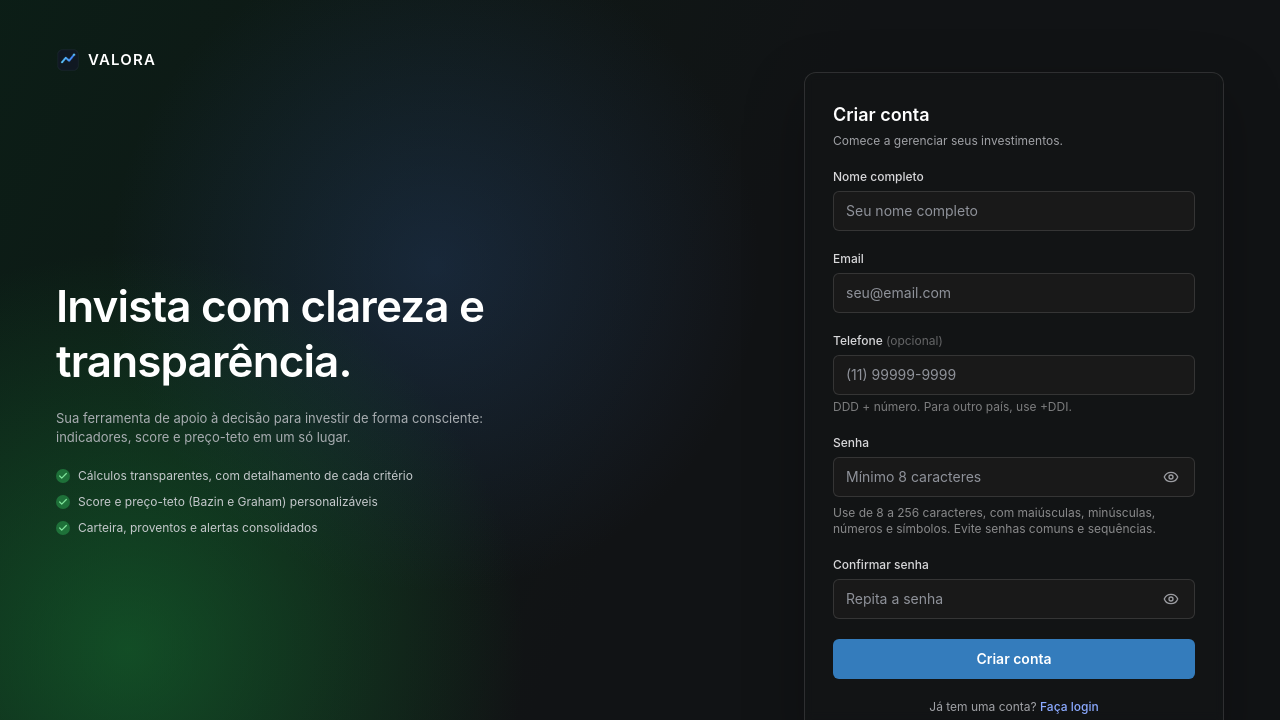
Test case: revela senha e confirmação independentemente, preserva valores e não envia cadastro
Type "Exemplo!123" into the password field labelled "Senha". click: point(1014, 477)
box: [833,457,1195,497]
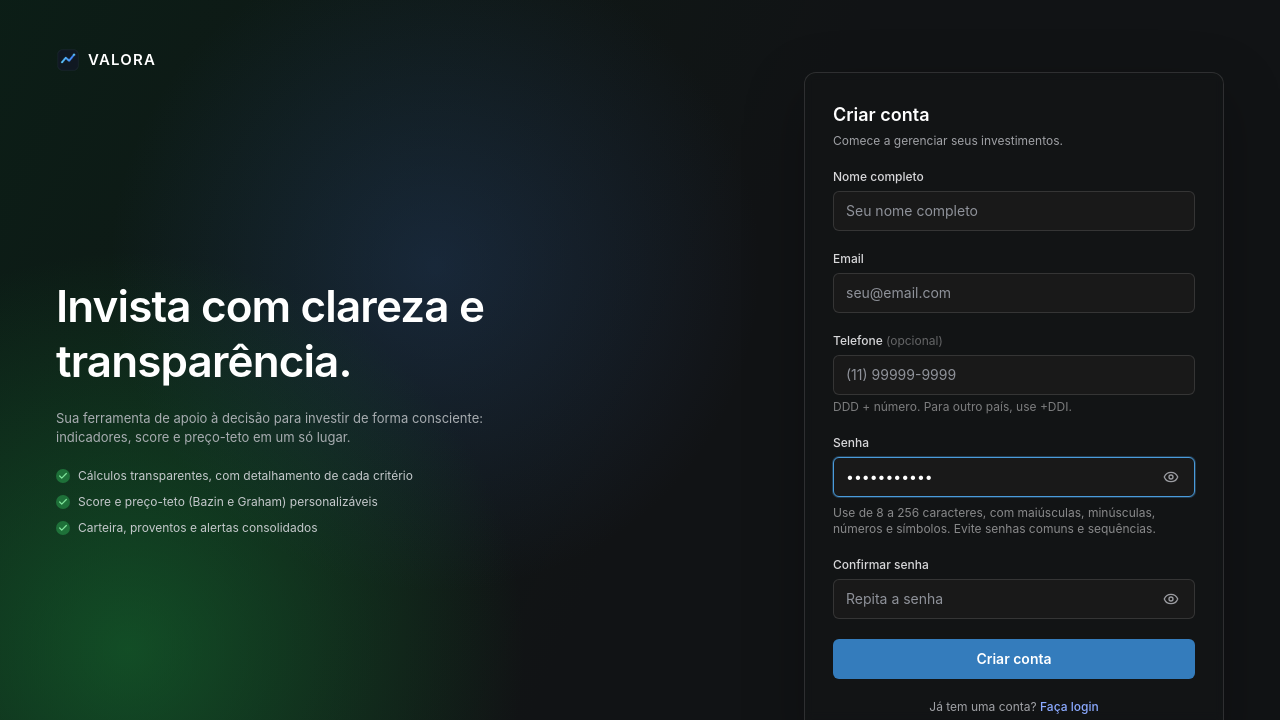
Type "Exemplo!123" into the password field labelled "Confirmar senha". click: point(1014, 599)
box: [833,579,1195,619]
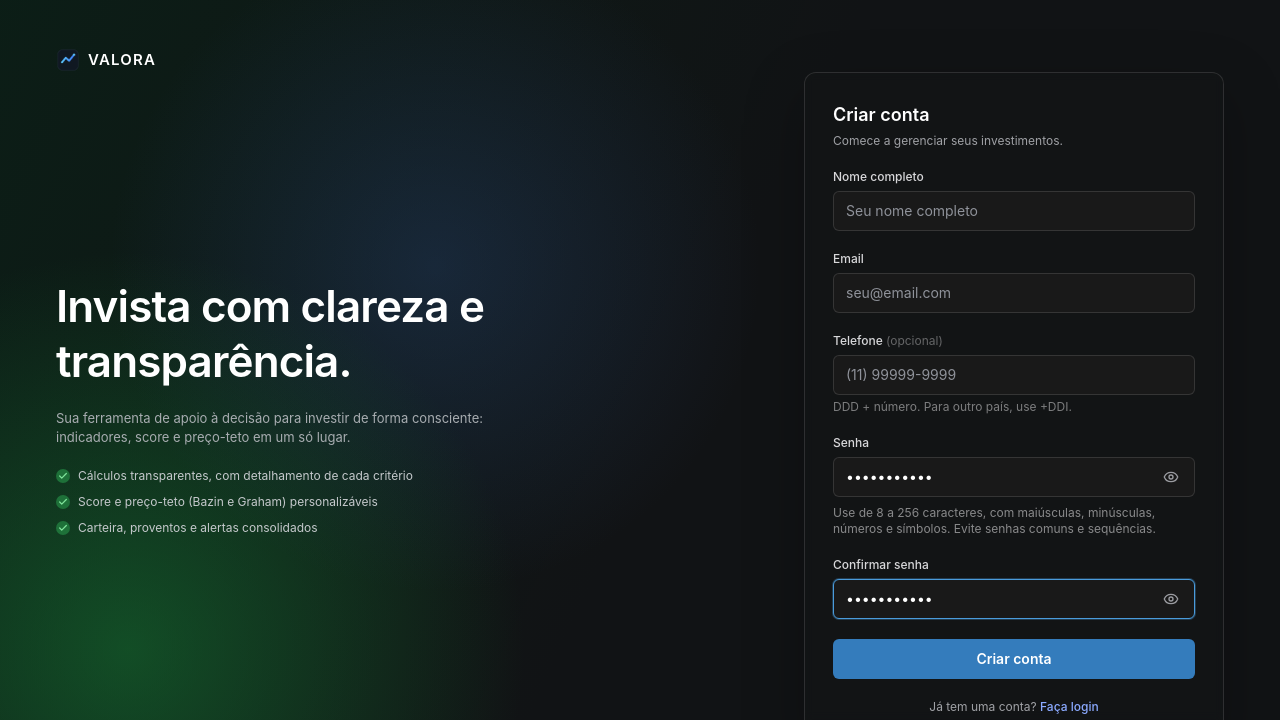
Click the button named "Mostrar senha". click: point(1171, 477)
box: [1159,465,1183,489]
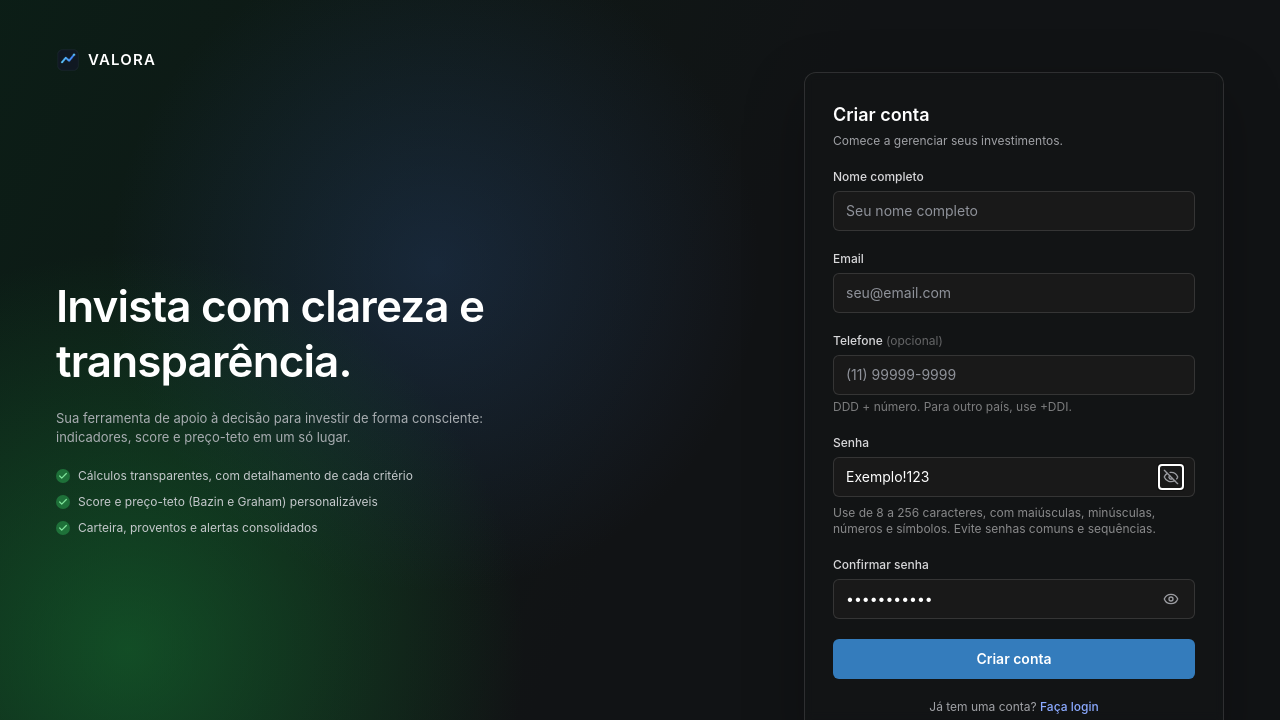
Now the field labelled "Senha" shows its text, box [833,457,1195,497]
Click the button named "Mostrar confirmação de senha". click: point(1171, 599)
box: [1159,587,1183,611]
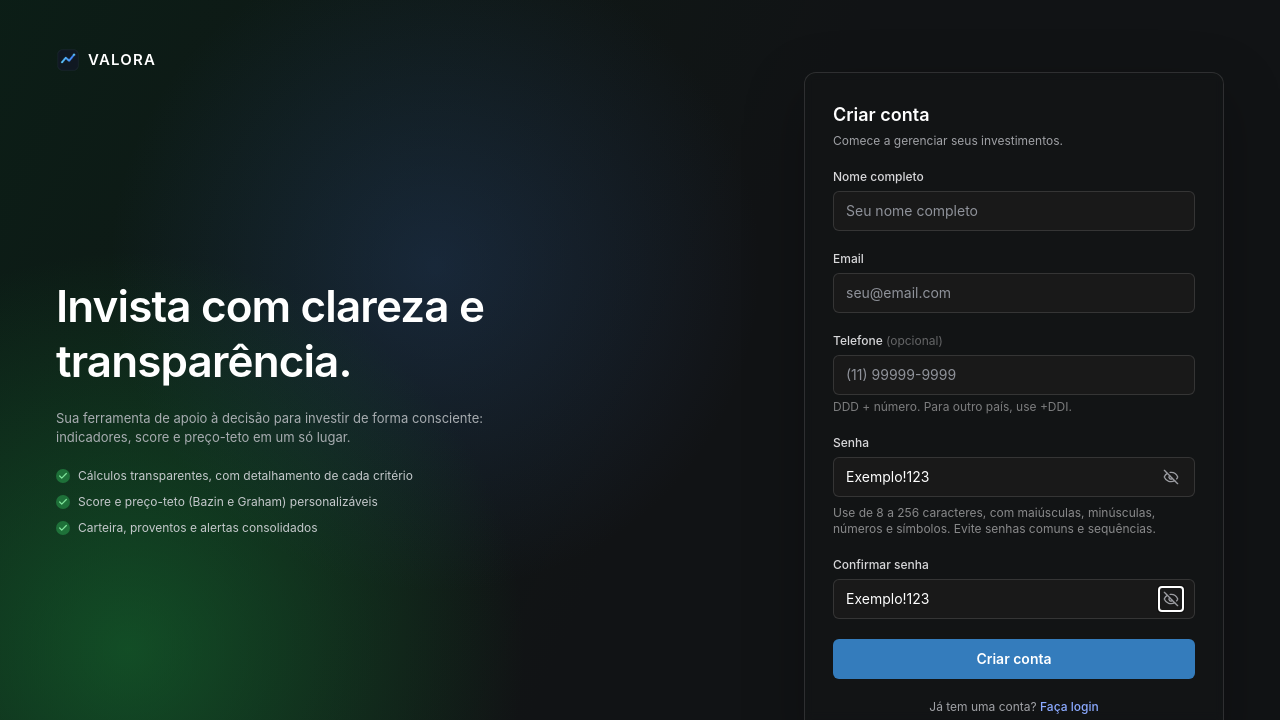
Now the field labelled "Confirmar senha" shows its text, box [833,579,1195,619]
Click the button named "Ocultar senha". click: point(1171, 477)
box: [1159,465,1183,489]
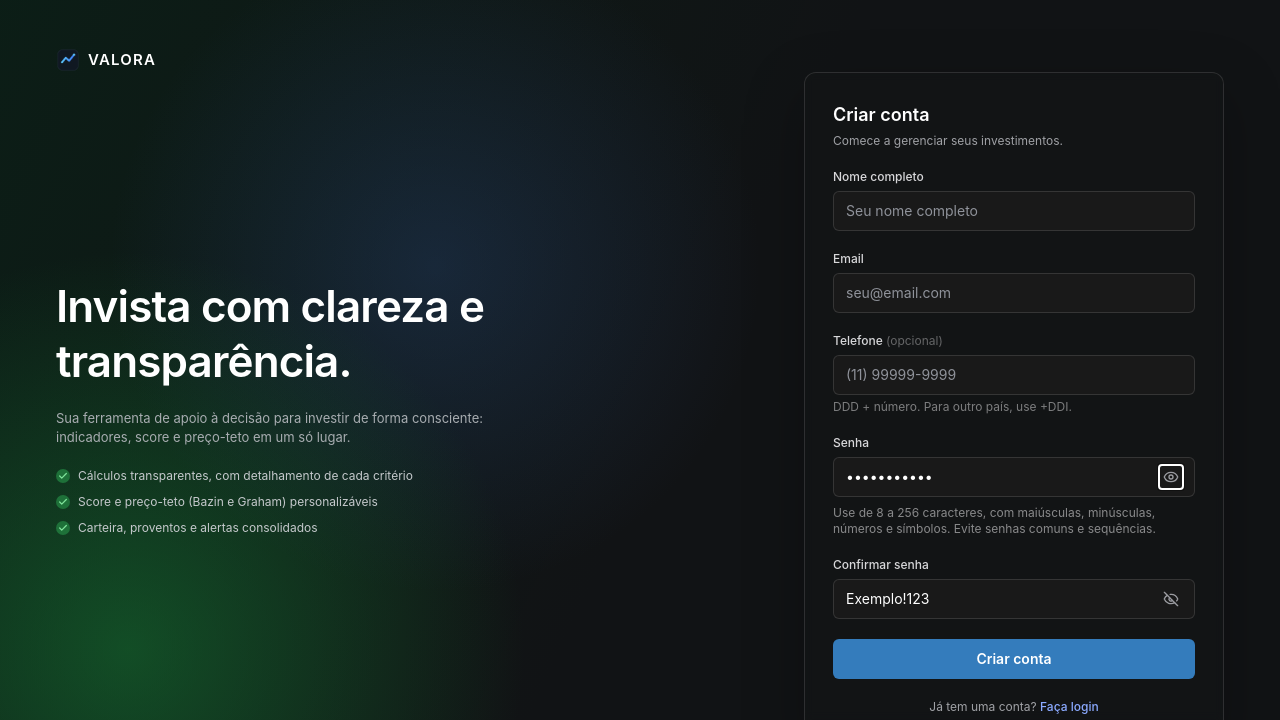
Click the button named "Ocultar confirmação de senha". click: point(1171, 599)
box: [1159,587,1183,611]
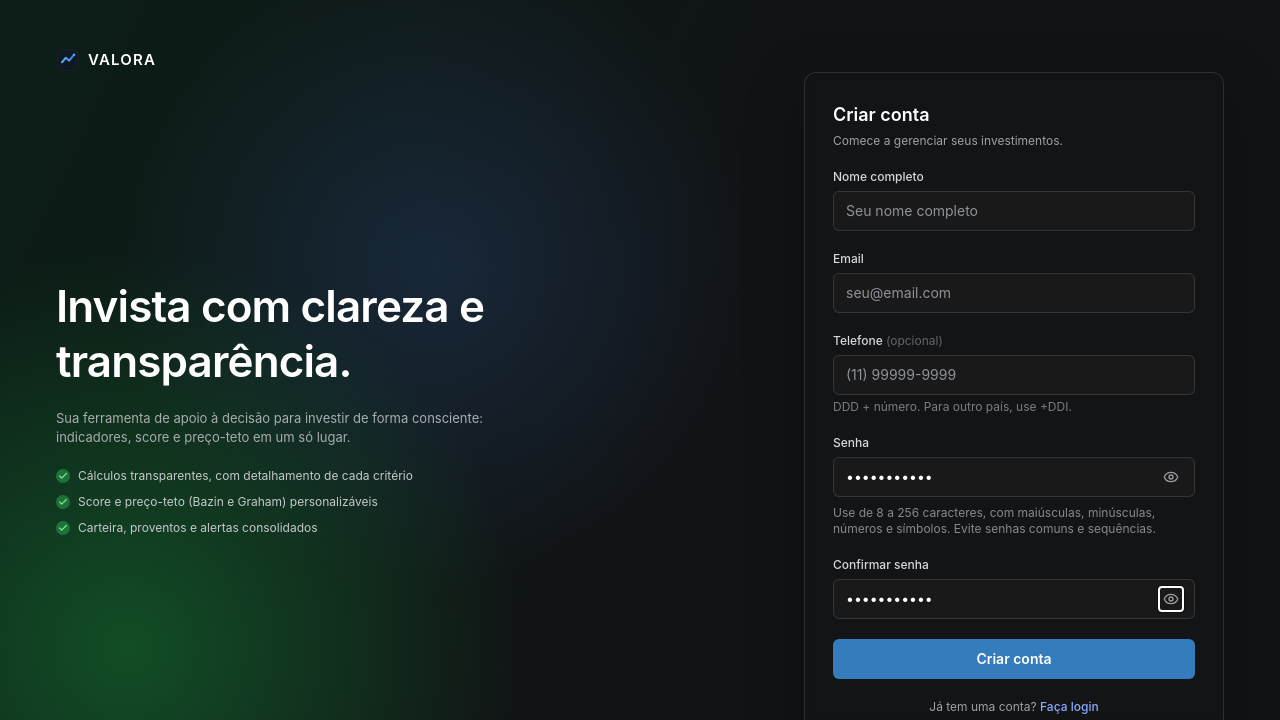
Now the password field labelled "Senha" hides its text, box [833,457,1195,497]
Now the password field labelled "Confirmar senha" hides its text, box [833,579,1195,619]
